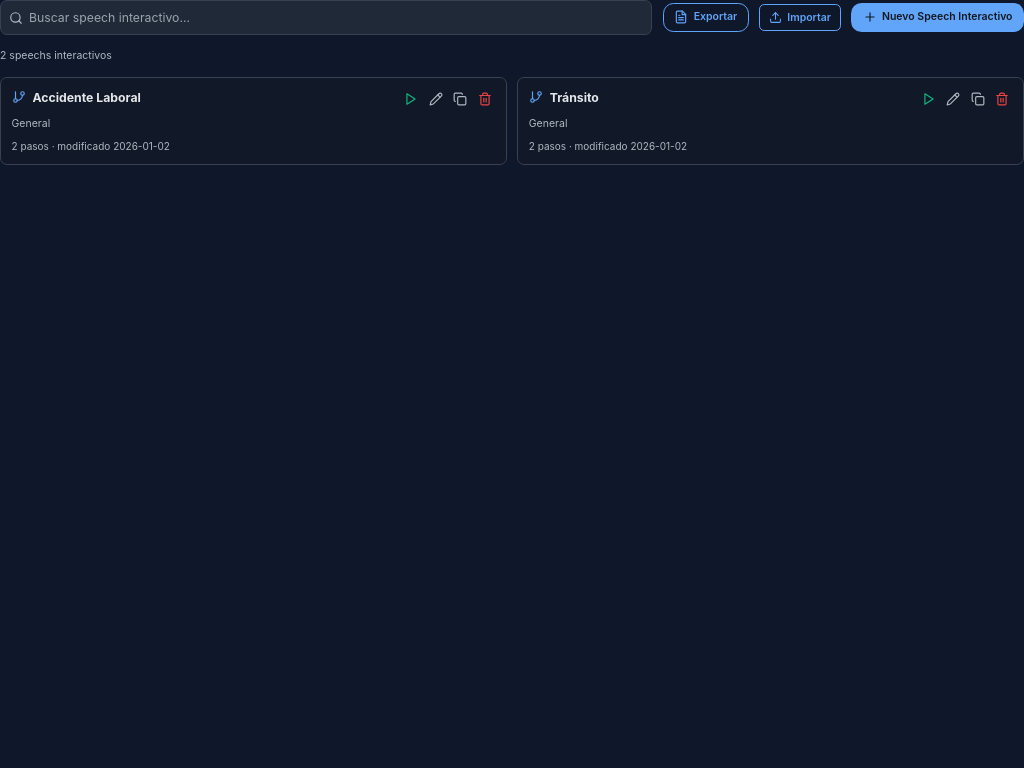
InteractivosView (1.9.1 · exportar) › checklist con todo seleccionado y exporta envelope versionado
Click the button "Exportar".
click(706, 17)  # box [663,3,749,32]
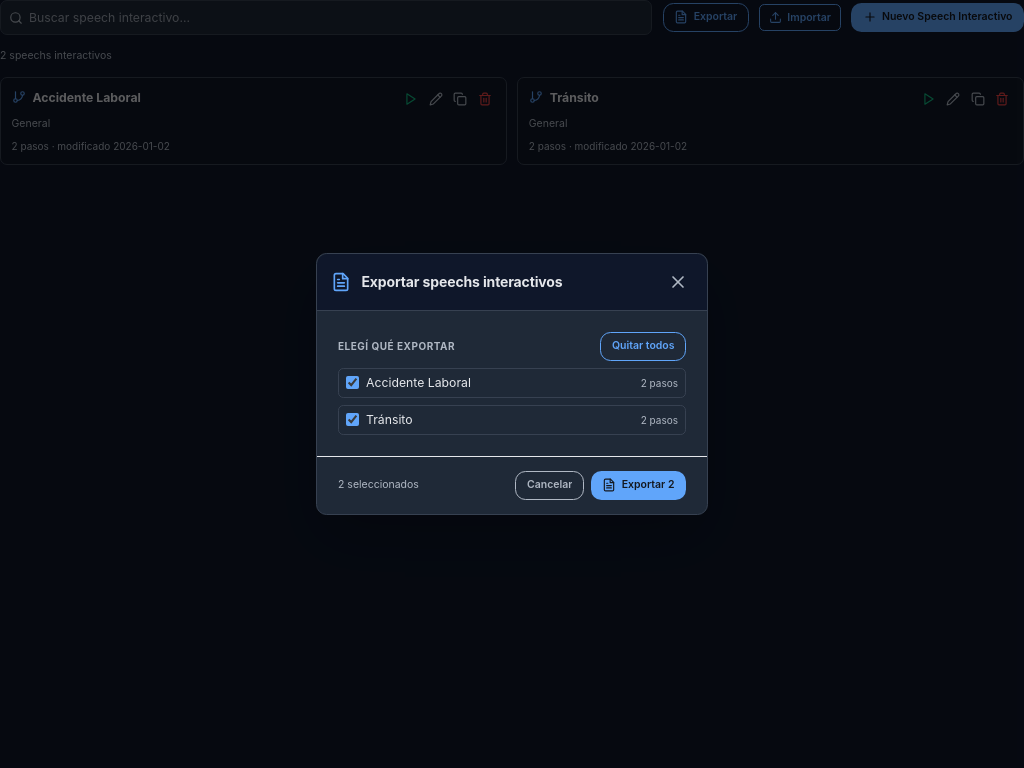
Expected: the text "Elegí qué exportar" is shown, [338,338,455,354]
Expected: the text "2 seleccionados" is shown, [338,478,419,492]
Click the checkbox named "Seleccionar Tránsito".
click(352, 420)  # box [346,413,359,426]
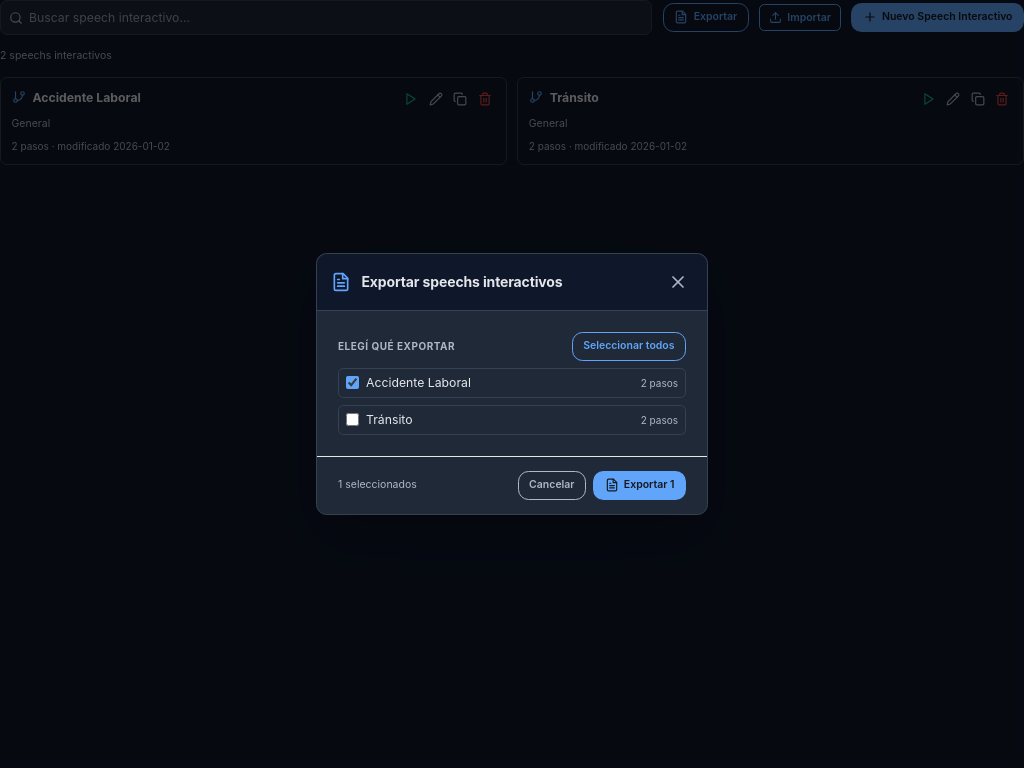
Expected: the text "1 seleccionados" is shown, [338,478,417,492]
Expected: the text "Seleccionar todos" is shown, [583,338,674,355]
Click the button "Seleccionar todos".
click(629, 346)  # box [572,332,686,361]
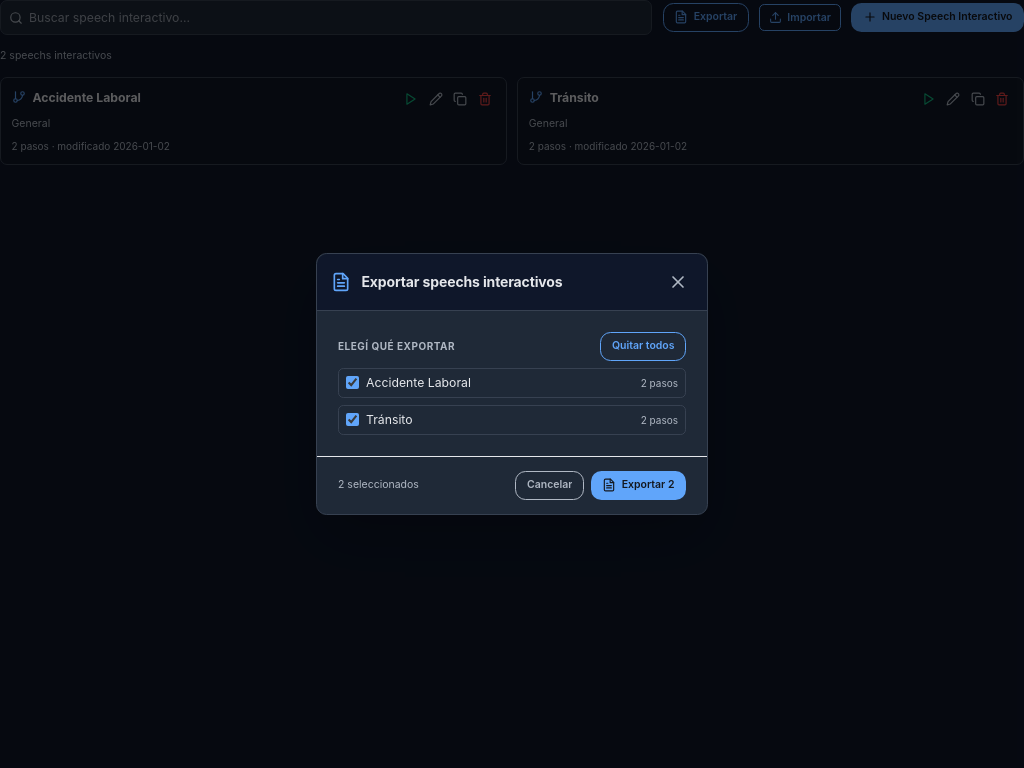
Expected: the text "2 seleccionados" is shown, [338,478,419,492]
Expected: the text "Quitar todos" is shown, [612,338,674,355]
Click the checkbox named "Seleccionar Tránsito".
click(352, 420)  # box [346,413,359,426]
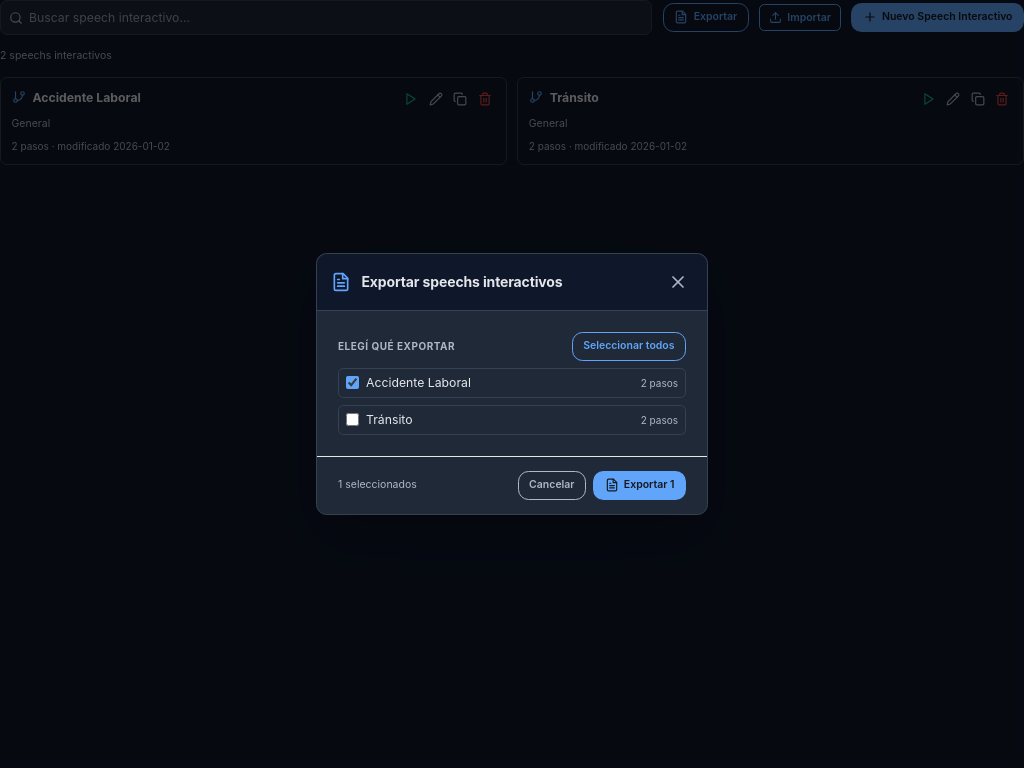
Click the button "Exportar 1".
click(640, 485)  # box [593,471,686,500]
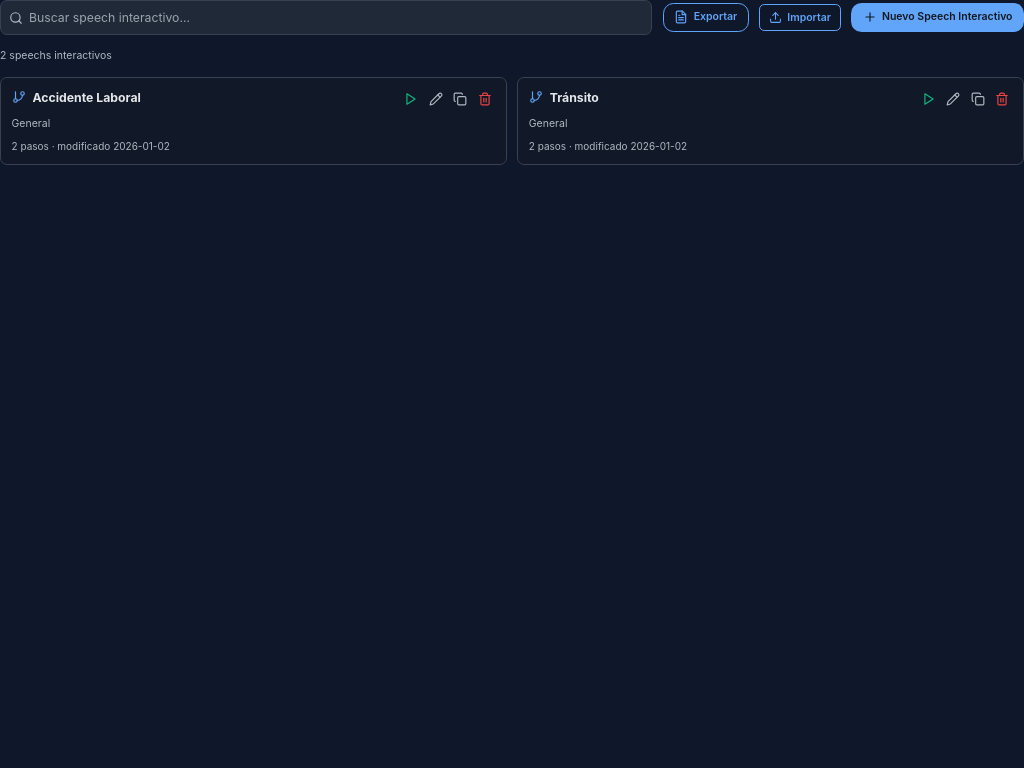
Expected: no dialogs are shown
